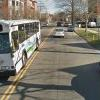Bus: (3, 12, 44, 77)
